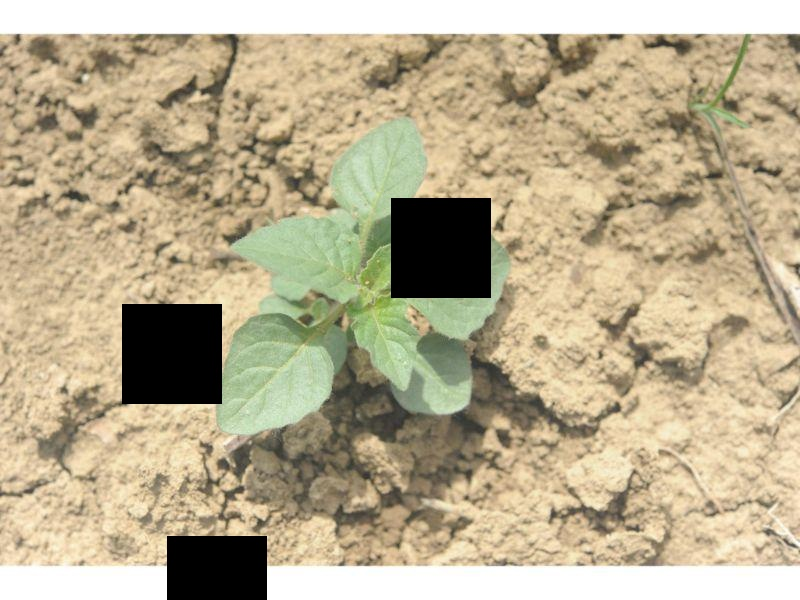nightshade: (217, 114, 508, 435)
